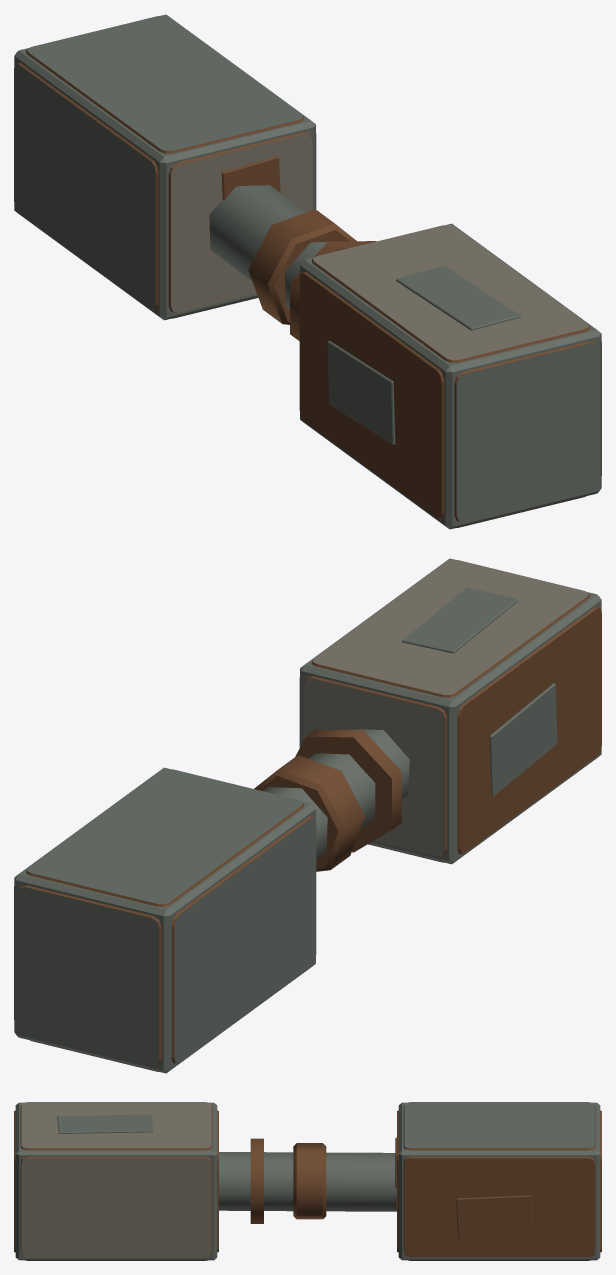
Rendered from R4C_ROD_SHORT.fbx.
3 renders of one model, top to bottom at view 1: azimuth 30°, elevation 25°; view 2: azimuth 150°, elevation 25°; view 3: azimuth 270°, elevation 25°, orthographic. The views are drawn at different scales.
Visible parts, largest first — view 1: R4C_ROD_SHORT; view 2: R4C_ROD_SHORT; view 3: R4C_ROD_SHORT.
Part boxes in pixels (left/top/right/bottom): R4C_ROD_SHORT: left=14, top=14, right=601, bottom=529; R4C_ROD_SHORT: left=14, top=558, right=601, bottom=1073; R4C_ROD_SHORT: left=14, top=1102, right=601, bottom=1260.
Bounding box in the file's own units: 0.232 × 0.232 × 1.07.
